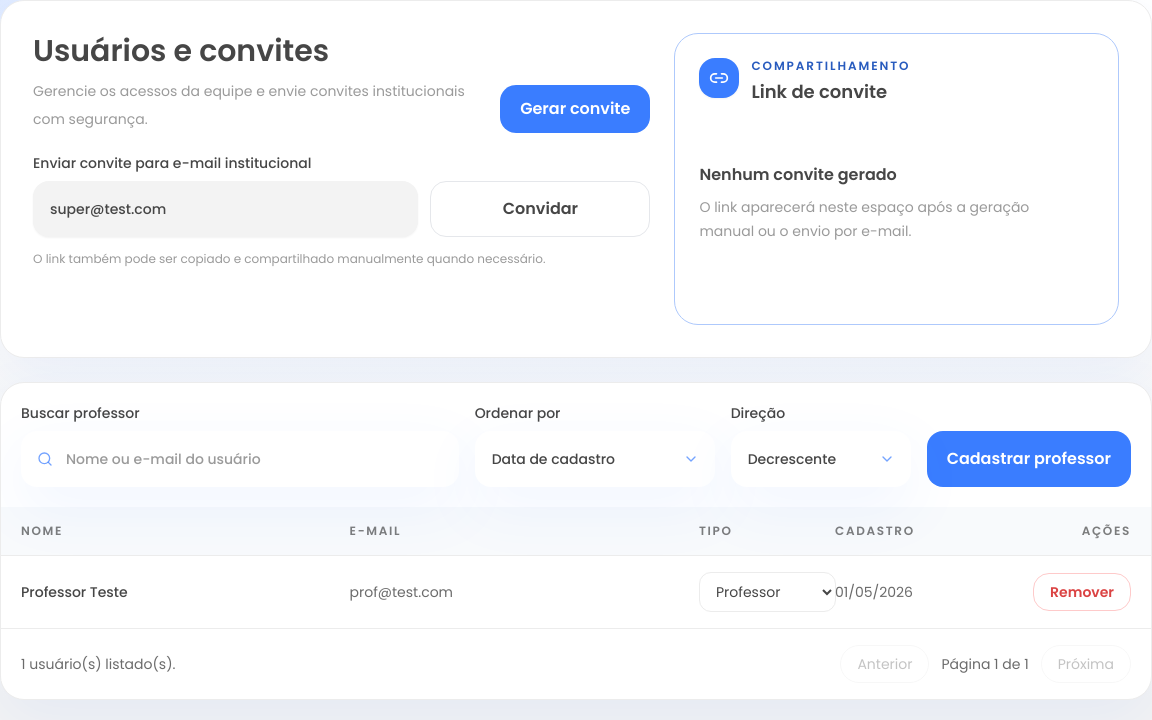
Test: UsersPage › deve enviar convite por e-mail institucional
expect the text "Professor Teste" is shown: met, box [21,582,128,602]
Replace the text in the field labelled "Enviar convite para e-mail institucional" with "jamilsonj@ufba.br" at [226, 209], box [33,181,418,237]
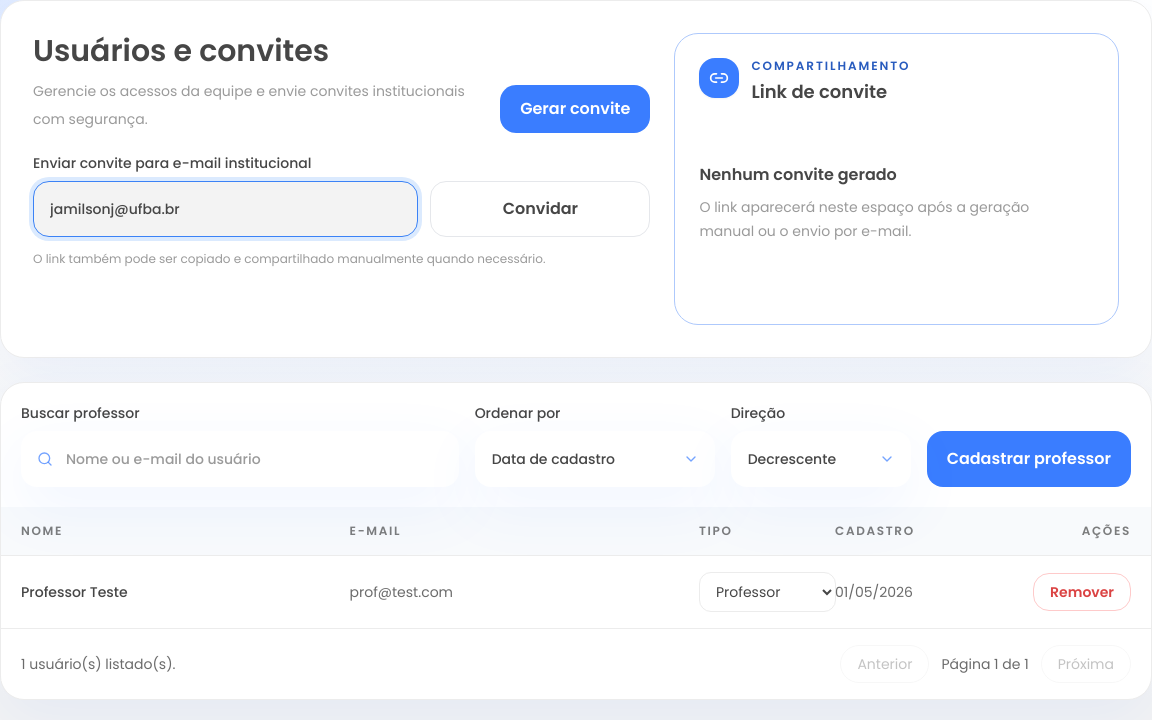
Click the button "Convidar" at [540, 209], box [430,181,650,237]
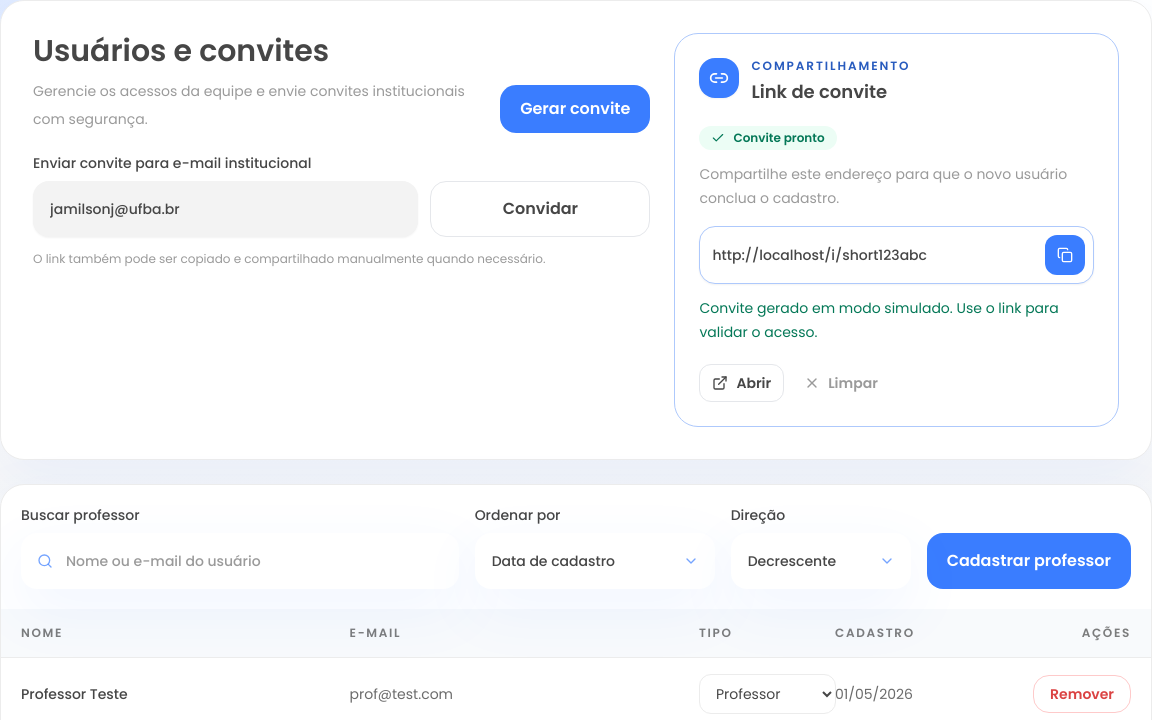
expect the text "Convite pronto" is shown: met, box [699,126,836,150]
